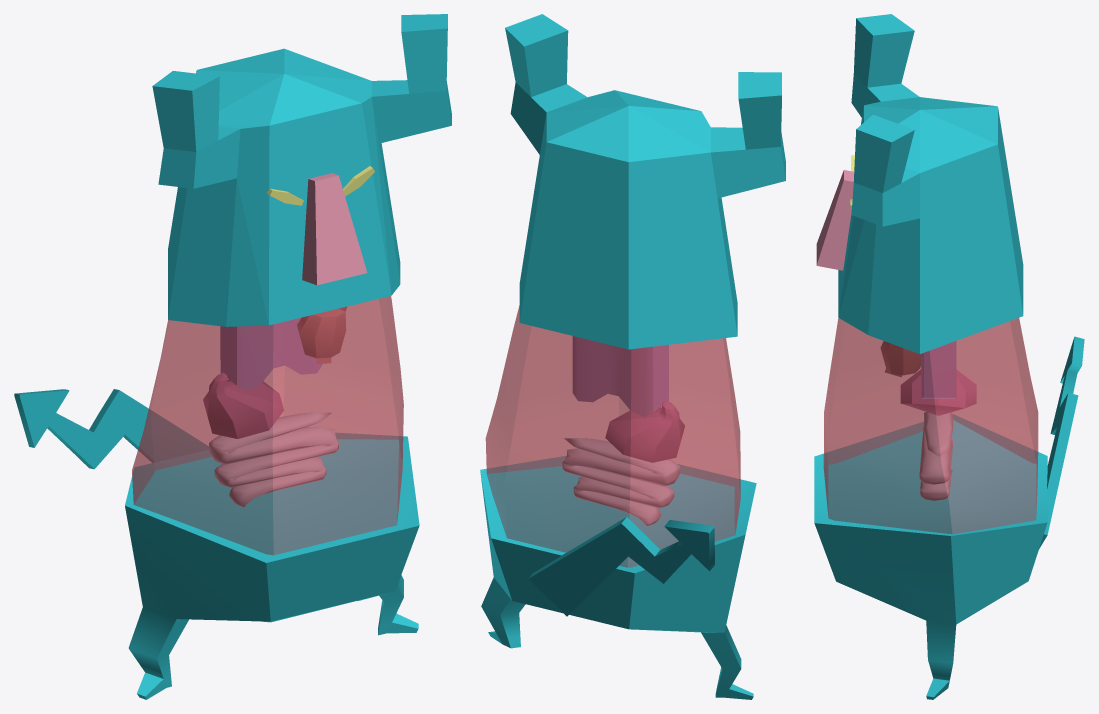
The model's file is TotemEnemyBasic (1).fbx.
3 views of the same model, side by side, from view 1: azimuth 30°, elevation 25°; view 2: azimuth 150°, elevation 25°; view 3: azimuth 270°, elevation 25° (orthographic). The views are drawn at different scales.
Visible parts, largest first — view 1: TotemHead, TotemWeak, TotemLowerHalf, TotemTail, TotemIntestines, TotemNose, TotemLungs, TotemStomach, TotemHeart; view 2: TotemHead, TotemWeak, TotemLowerHalf, TotemTail, TotemIntestines, TotemLungs, TotemStomach; view 3: TotemHead, TotemWeak, TotemLowerHalf, TotemTail, TotemIntestines, TotemNose, TotemLungs, TotemStomach, TotemHeart.
Boxes of the visible parts, x1,y1,x2,y2 form: TotemHead: (152, 14, 451, 326); TotemWeak: (132, 296, 403, 555); TotemLowerHalf: (125, 433, 419, 699); TotemTail: (14, 389, 208, 469); TotemIntestines: (209, 412, 338, 507); TotemNose: (302, 173, 367, 285); TotemLungs: (220, 318, 322, 390); TotemStomach: (203, 372, 283, 438); TotemHeart: (297, 306, 346, 363); TotemHead: (505, 14, 785, 349); TotemWeak: (485, 305, 740, 567); TotemLowerHalf: (480, 456, 756, 699); TotemTail: (528, 517, 714, 616); TotemIntestines: (562, 438, 679, 526); TotemLungs: (572, 336, 668, 416); TotemStomach: (605, 400, 684, 462); TotemHead: (838, 14, 1023, 353); TotemWeak: (823, 318, 1038, 534); TotemLowerHalf: (814, 414, 1047, 699); TotemTail: (1039, 336, 1084, 548); TotemIntestines: (919, 412, 953, 500); TotemNose: (816, 170, 854, 270); TotemLungs: (921, 341, 956, 398); TotemStomach: (900, 369, 976, 415); TotemHeart: (880, 341, 921, 376).
Size of the model in its own units: 18.33 by 34.2 by 14.79.
